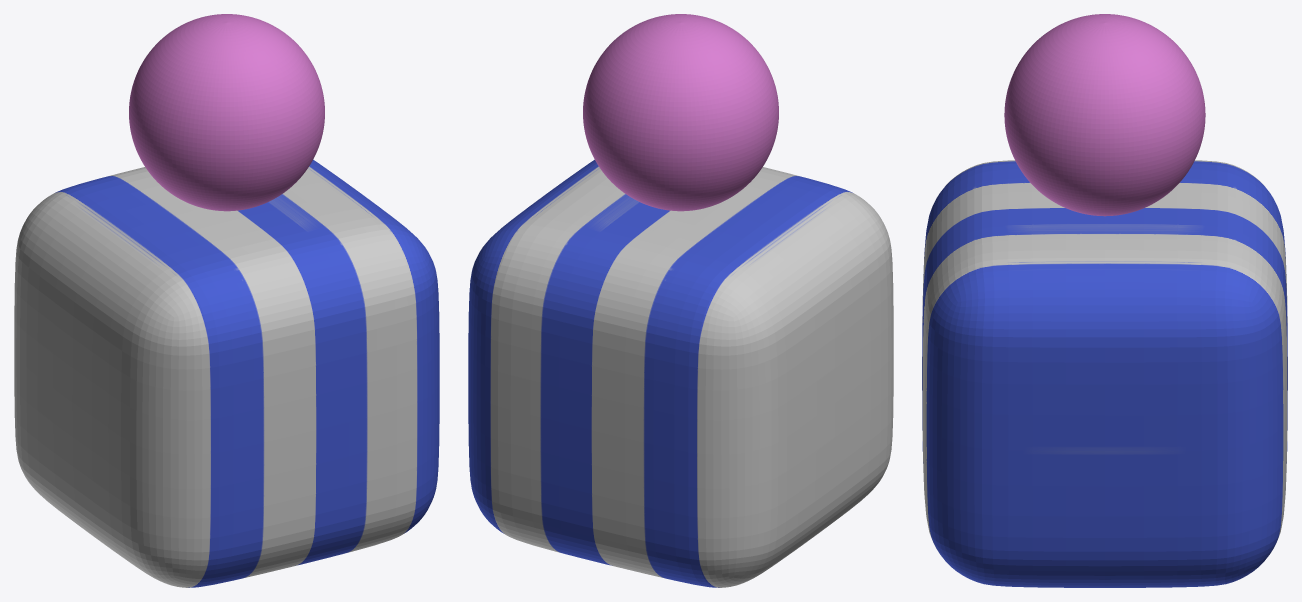
Rendered from BOD3_BMC0_BCC13_BPT1_FRC0_HEA0_HMC10_HCC0_HPT0_ELT0_ERT0_ELL0_ERL0_AP0_AAL0_AAR0_BEK0.fbx.
The picture shows the model from 3 angles, left to right: view 1: azimuth 30°, elevation 25°; view 2: azimuth 150°, elevation 25°; view 3: azimuth 270°, elevation 25°; orthographic projection. The views are drawn at different scales.
Parts seen in each view (by area): view 1: Body, Head; view 2: Body, Head; view 3: Body, Head.
Boxes of the visible parts, bbox=[...] form: Body: bbox=[14, 159, 439, 587]; Head: bbox=[129, 14, 324, 211]; Body: bbox=[468, 159, 893, 587]; Head: bbox=[583, 14, 778, 211]; Body: bbox=[922, 160, 1287, 587]; Head: bbox=[1004, 14, 1205, 216].
Bounding box in the file's own units: 89.79 × 140 × 89.79.
2 materials, 2 textured.
